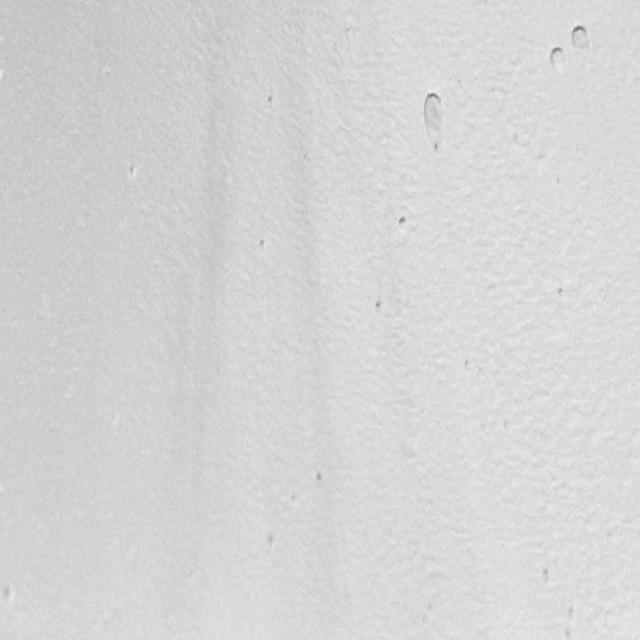pin holes: (414, 88, 449, 157), (568, 23, 591, 53), (547, 45, 567, 73), (538, 566, 558, 591), (392, 212, 413, 234), (1, 584, 17, 609), (371, 298, 388, 318), (312, 469, 328, 486), (264, 533, 279, 551), (265, 92, 279, 110), (126, 162, 140, 179), (257, 235, 271, 252), (554, 286, 568, 301)
